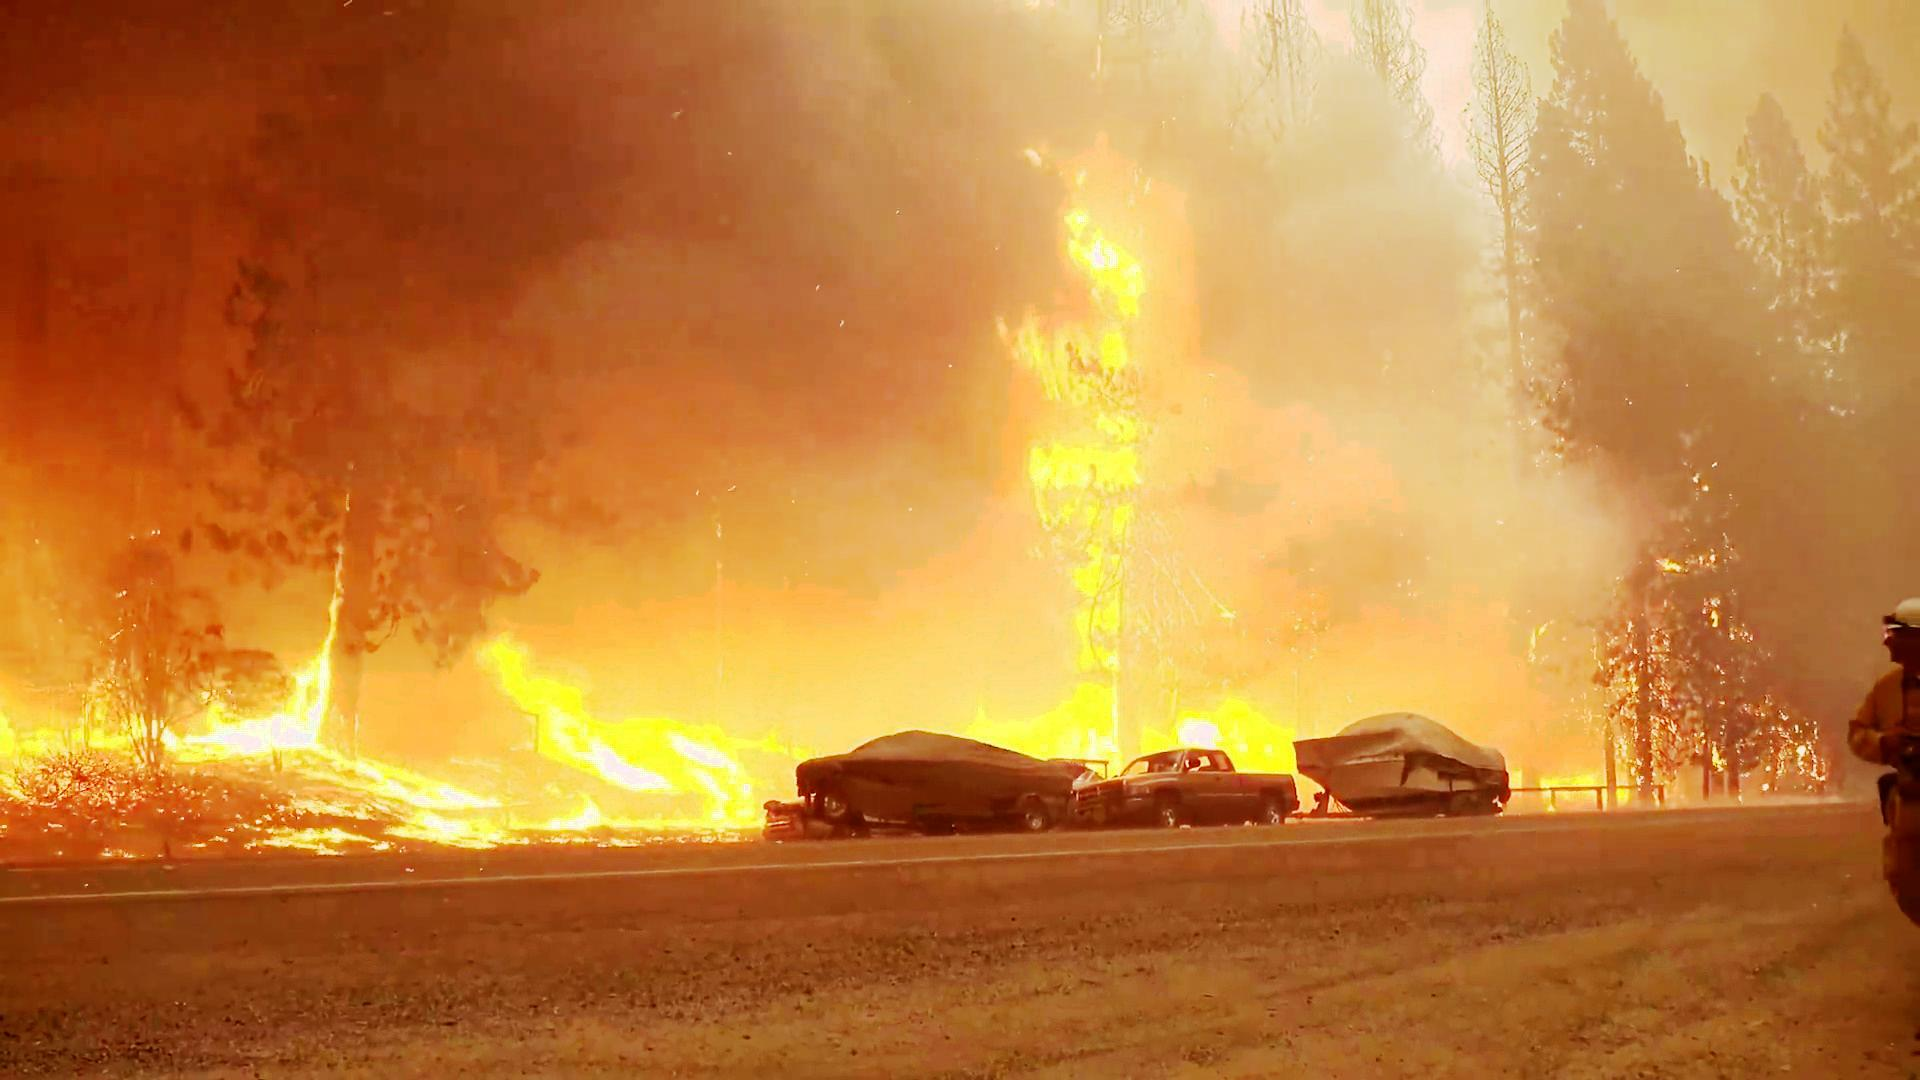fire: (1015, 186, 1175, 742), (505, 653, 777, 835), (166, 596, 335, 753)
smoke: (295, 33, 893, 491), (1207, 141, 1535, 616)
